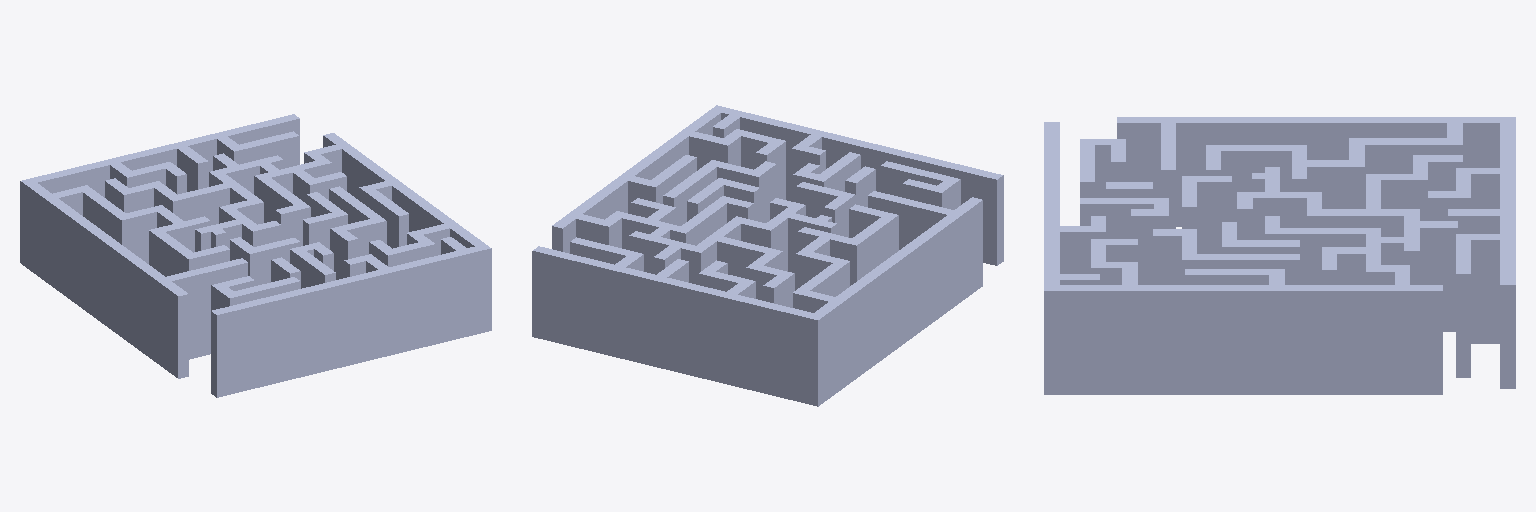
URDF robot description (maze):
<?xml version="1.0" encoding="utf-8"?>
<!-- This URDF was automatically created by SolidWorks to URDF Exporter! Originally created by Stephen Brawner (brawner@gmail.com) 
     Commit Version: 1.6.0-4-g7f85cfe  Build Version: 1.6.7995.38578
     For more information, please see http://wiki.ros.org/sw_urdf_exporter -->
<robot
  name="maze">
  <link
    name="base_link">
    <inertial>
      <origin
        xyz="-0.0851121822870669 0.374441479057587 0.749999999999999"
        rpy="0 0 0" />
      <mass
        value="18354.4992365759" />
      <inertia
        ixx="47881.7177476495"
        ixy="-7260.47648777536"
        ixz="4.27732972118429E-12"
        iyy="32326.1047186429"
        iyz="3.40698217421567E-13"
        izz="73324.8852525765" />
    </inertial>
    <visual>
      <origin
        xyz="0 0 0"
        rpy="0 0 0" />
      <geometry>
        <mesh
          filename="package://maze/meshes/base_link.STL" />
      </geometry>
      <material
        name="">
        <color
          rgba="0.792156862745098 0.819607843137255 0.933333333333333 1" />
      </material>
    </visual>
    <collision>
      <origin
        xyz="0 0 0"
        rpy="0 0 0" />
      <geometry>
        <mesh
          filename="package://maze/meshes/base_link.STL" />
      </geometry>
    </collision>
  </link>
</robot>

--- Render facts (derived) ---
3 views of the same robot in one strip: view 1: azimuth 30°, elevation 25°; view 2: azimuth 150°, elevation 25°; view 3: azimuth 270°, elevation 25° (orthographic).
Model maze with 1 links and 0 joints (none), rooted at base_link, posed all joints at 0.
Links seen in each view (by area): view 1: base_link; view 2: base_link; view 3: base_link.
Boxes of the visible links, x1=… form: base_link: x1=20, y1=114, x2=491, y2=397; base_link: x1=532, y1=105, x2=1003, y2=406; base_link: x1=1044, y1=117, x2=1515, y2=394.
Bounding box of the posed robot: 5.4 × 6.15 × 1.5 m (x, y, z).
1 mesh visuals loaded from 1 distinct referenced files (1 binary STL).
